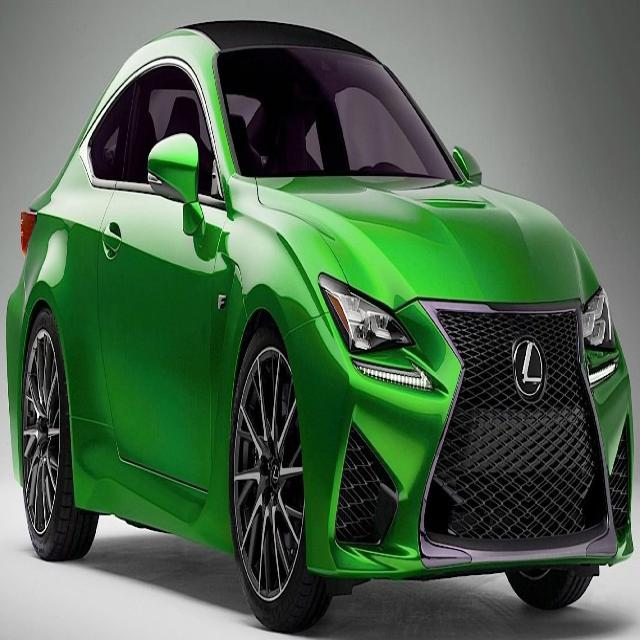green: (6, 22, 634, 623)
